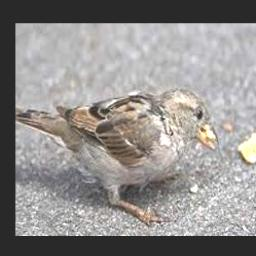Sparrow: (15, 88, 220, 225)
